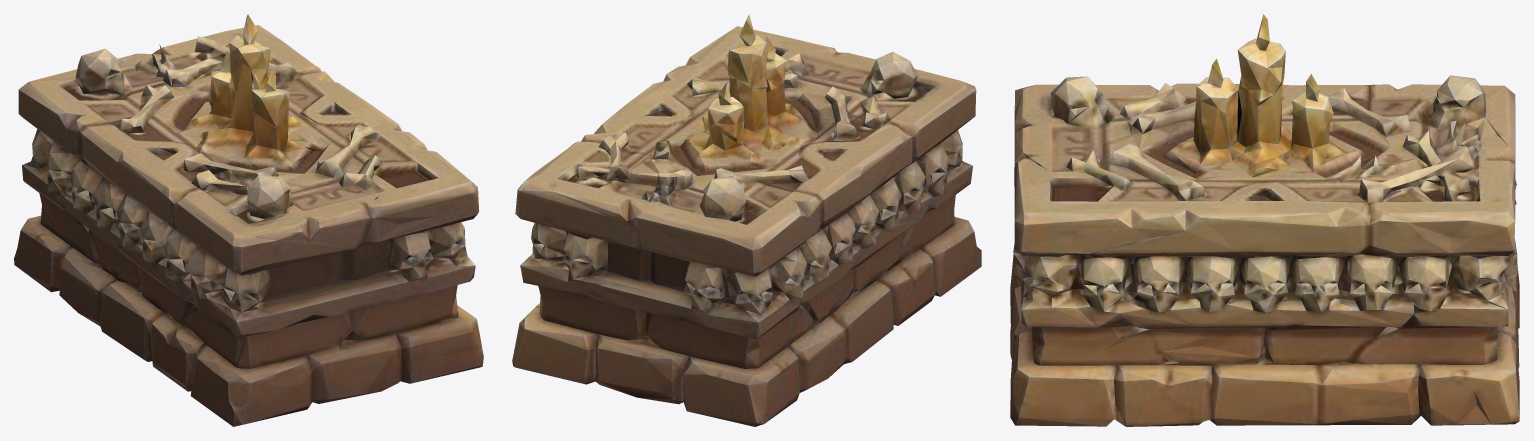
The model's file is altar_crypt.glb.
3 renders of one model, left to right at view 1: azimuth 30°, elevation 25°; view 2: azimuth 150°, elevation 25°; view 3: azimuth 270°, elevation 25°, orthographic. The views are drawn at different scales.
Parts seen in each view (by area): view 1: tripo_node_3fa74d1f-6e25-4cbc-9e7f-7b4e71c10dbc.001; view 2: tripo_node_3fa74d1f-6e25-4cbc-9e7f-7b4e71c10dbc.001; view 3: tripo_node_3fa74d1f-6e25-4cbc-9e7f-7b4e71c10dbc.001.
Part boxes in pixels (box(x1,y1,x2,y2)): tripo_node_3fa74d1f-6e25-4cbc-9e7f-7b4e71c10dbc.001: box(14, 14, 483, 426); tripo_node_3fa74d1f-6e25-4cbc-9e7f-7b4e71c10dbc.001: box(512, 14, 981, 426); tripo_node_3fa74d1f-6e25-4cbc-9e7f-7b4e71c10dbc.001: box(1010, 14, 1519, 426).
Size of the model in its own units: 0.6607 by 0.7417 by 0.999.
1 material, 1 textured.
